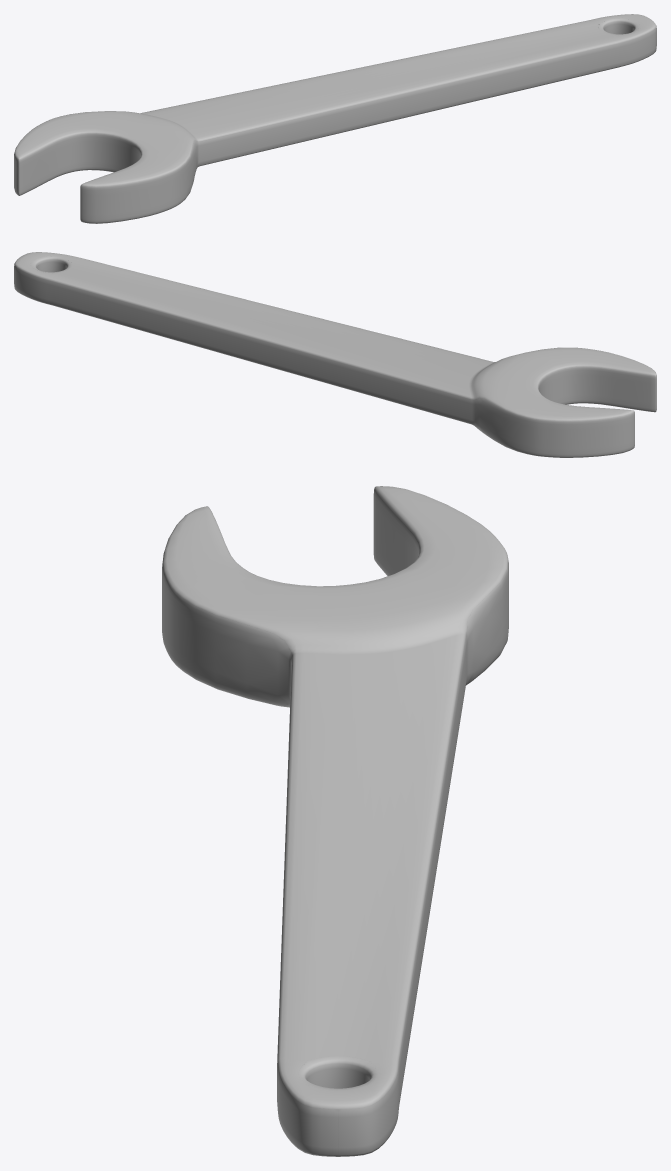
Rendered from tools.glb.
The picture shows the model from 3 angles, top to bottom: view 1: azimuth 30°, elevation 25°; view 2: azimuth 150°, elevation 25°; view 3: azimuth 270°, elevation 25°; orthographic projection. The views are drawn at different scales.
Visible parts, largest first — view 1: OpenEndedWrench; view 2: OpenEndedWrench; view 3: OpenEndedWrench.
Boxes of the visible parts, x1,y1,x2,y2 form: OpenEndedWrench: [14, 14, 656, 223]; OpenEndedWrench: [14, 252, 656, 457]; OpenEndedWrench: [162, 486, 508, 1156].
Size of the model in its own units: 488 by 29.6 by 117.
Materials: 1 (1 with a texture image).
